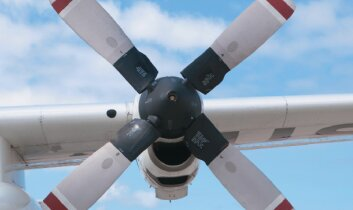Propeller: (49, 1, 284, 201)
